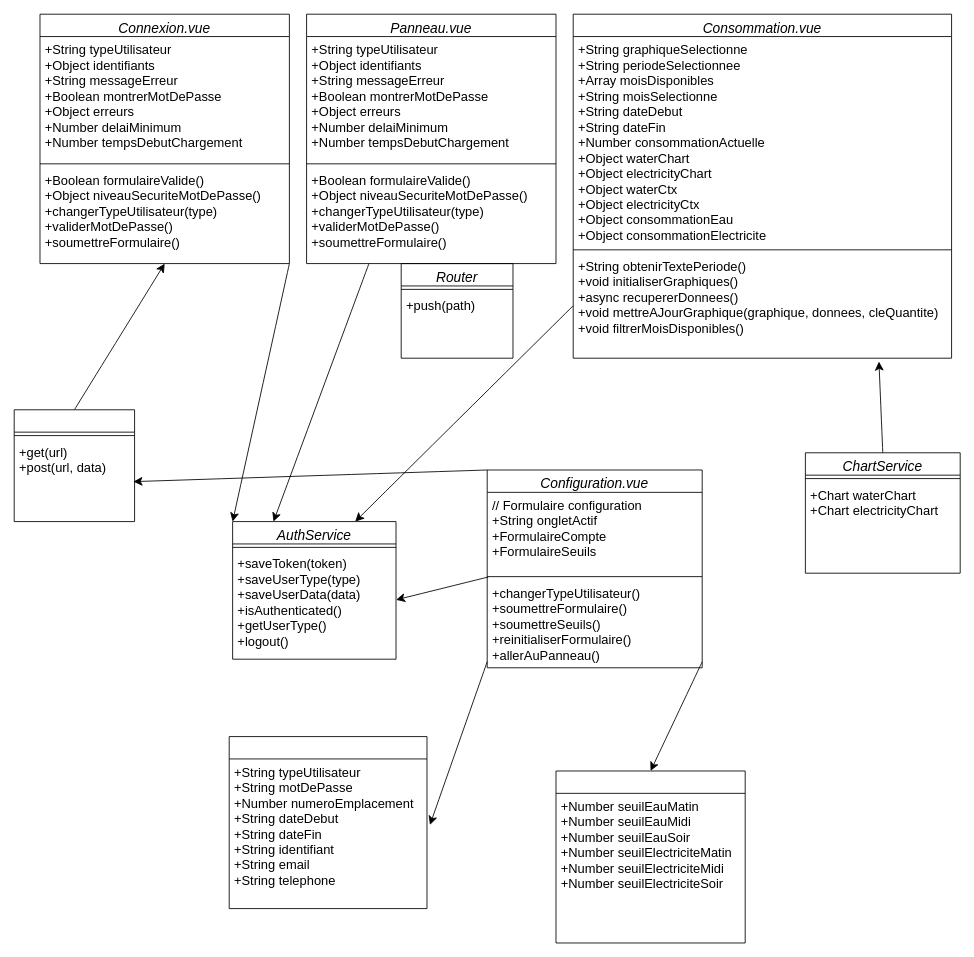
Some shapes in this 974 by 957 pixel diagram are drawn without their labels. The shapes that lost their labels are listed below. From the top down, each one's box as (x1, y1, x2, y2) in pixels, then its label:
(13, 409, 135, 522): AxiosService
(228, 736, 427, 909): FormulaireCompte
(555, 770, 745, 943): FormulaireSeuils
